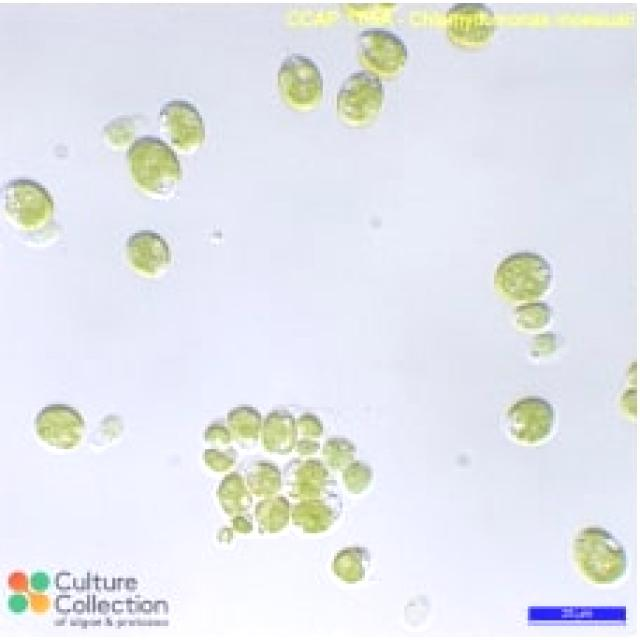Green Algae: (126, 137, 182, 205), (334, 67, 385, 132), (575, 525, 629, 584), (3, 177, 56, 236), (494, 250, 553, 303), (31, 404, 90, 455), (160, 101, 211, 157), (278, 51, 323, 112), (126, 230, 174, 281), (357, 28, 404, 76), (508, 396, 556, 443), (227, 404, 267, 452), (295, 497, 342, 533), (266, 404, 298, 455), (219, 472, 255, 516), (334, 544, 371, 584), (258, 494, 295, 533), (294, 455, 326, 497), (247, 458, 281, 494), (511, 303, 553, 329), (340, 463, 370, 491), (326, 438, 354, 466), (300, 415, 326, 441)
